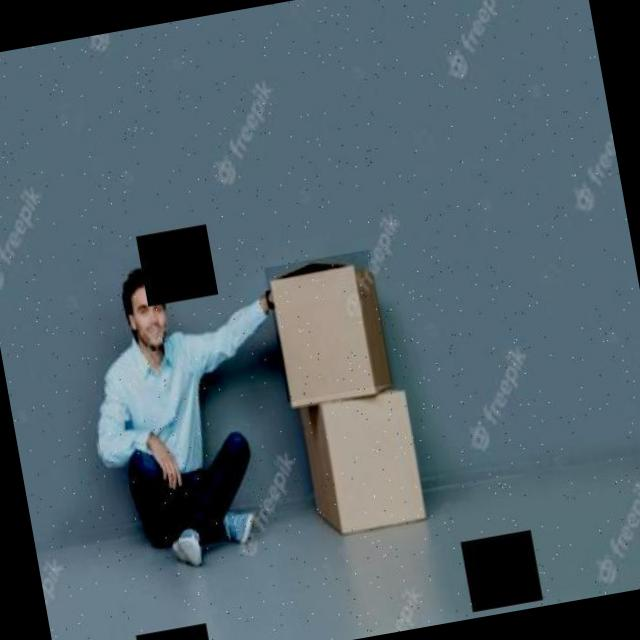box: (288, 380, 437, 546), (264, 249, 396, 422)
